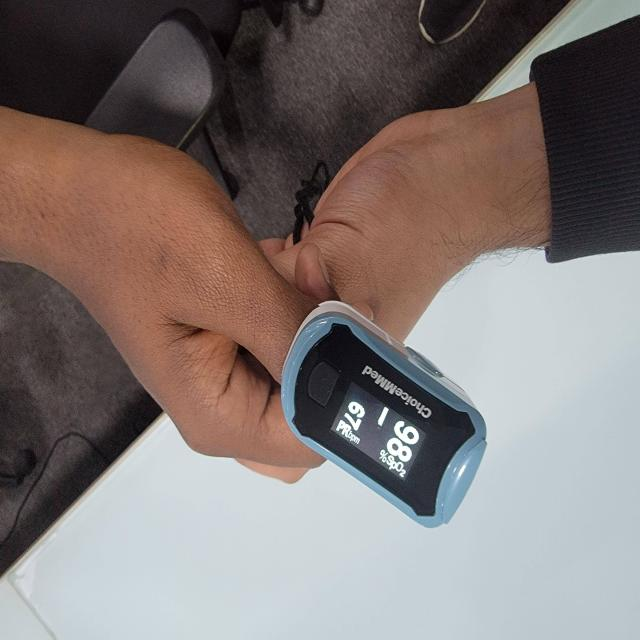spo2: (280, 302, 488, 532)
